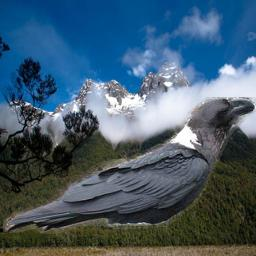Crow: (3, 97, 256, 234)
